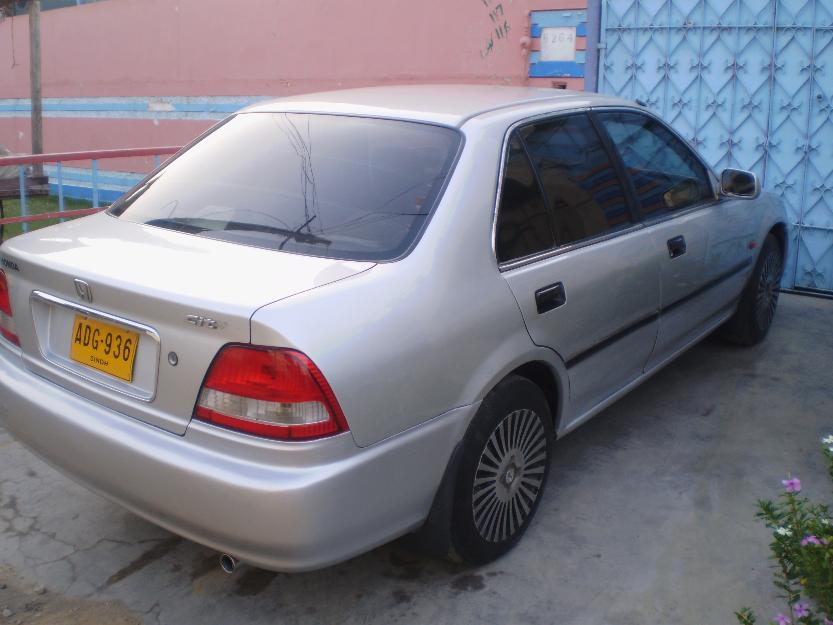Number Plate (Car): (63, 311, 140, 379)
